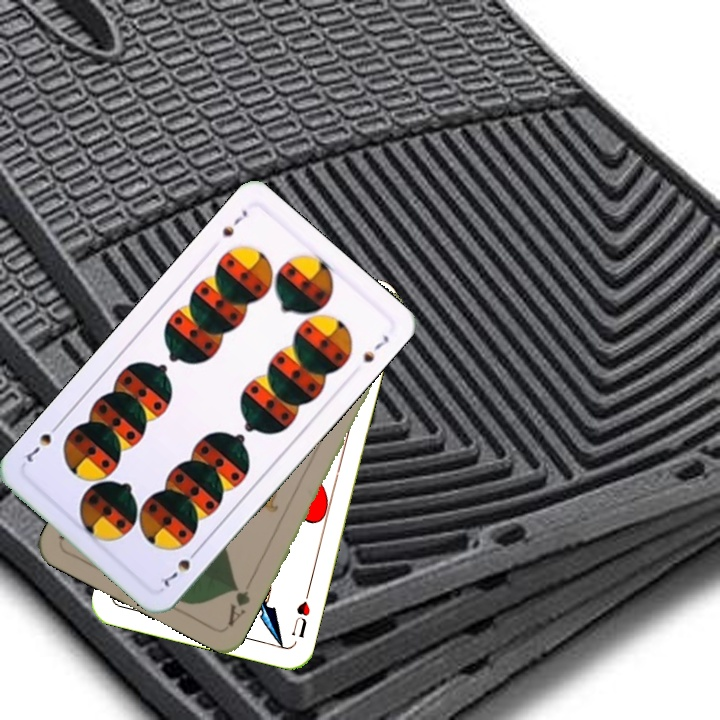GA: (223, 581, 253, 629)
HU: (287, 586, 313, 641)
S7: (156, 544, 202, 589), (217, 206, 251, 240)
